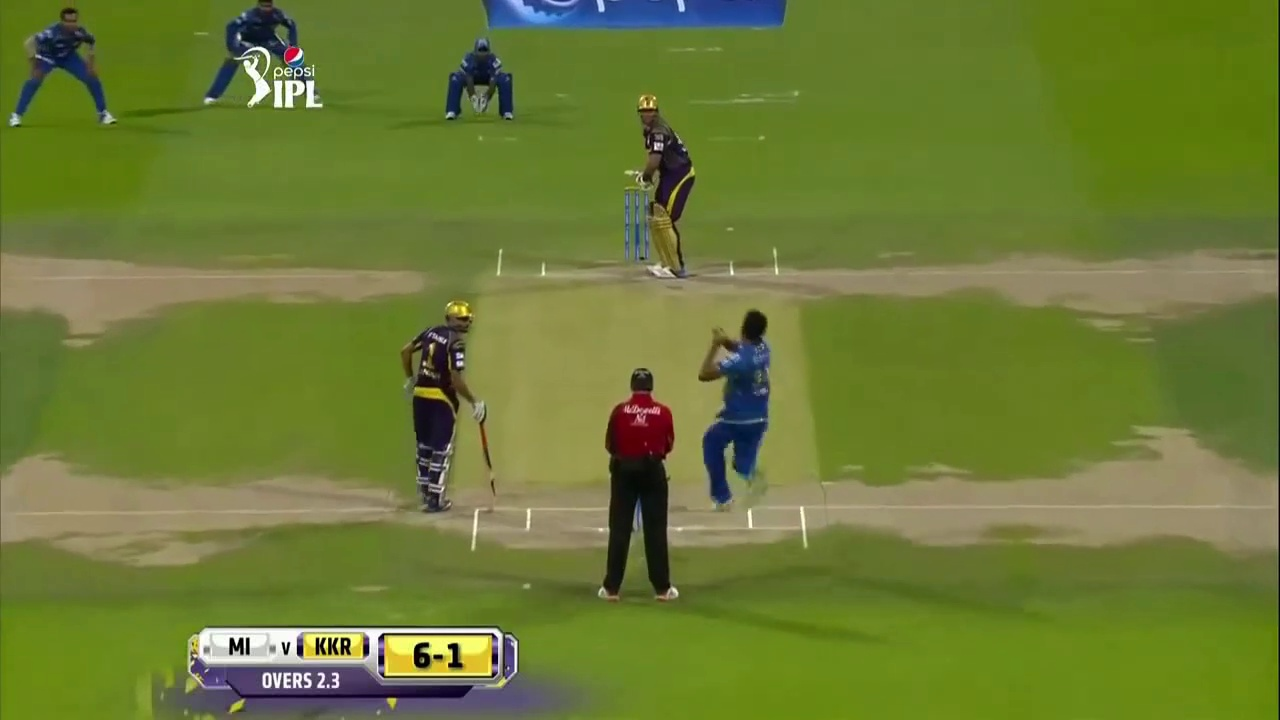bat: (480, 426, 498, 510)
